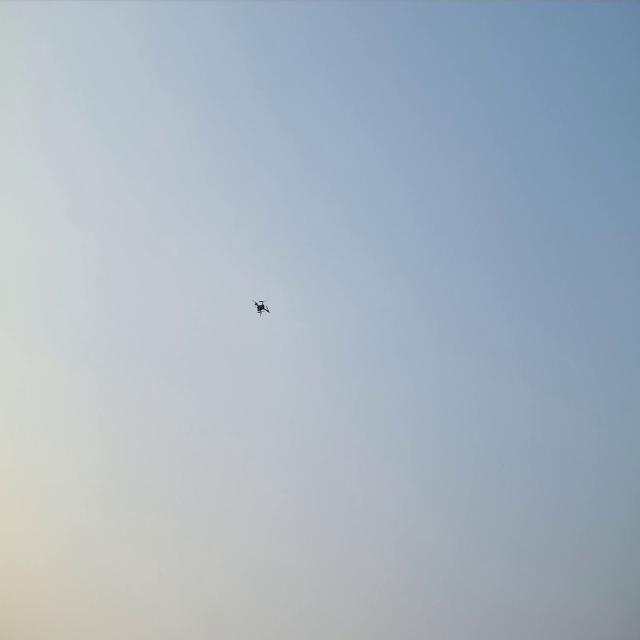UAV: (250, 296, 271, 318)
